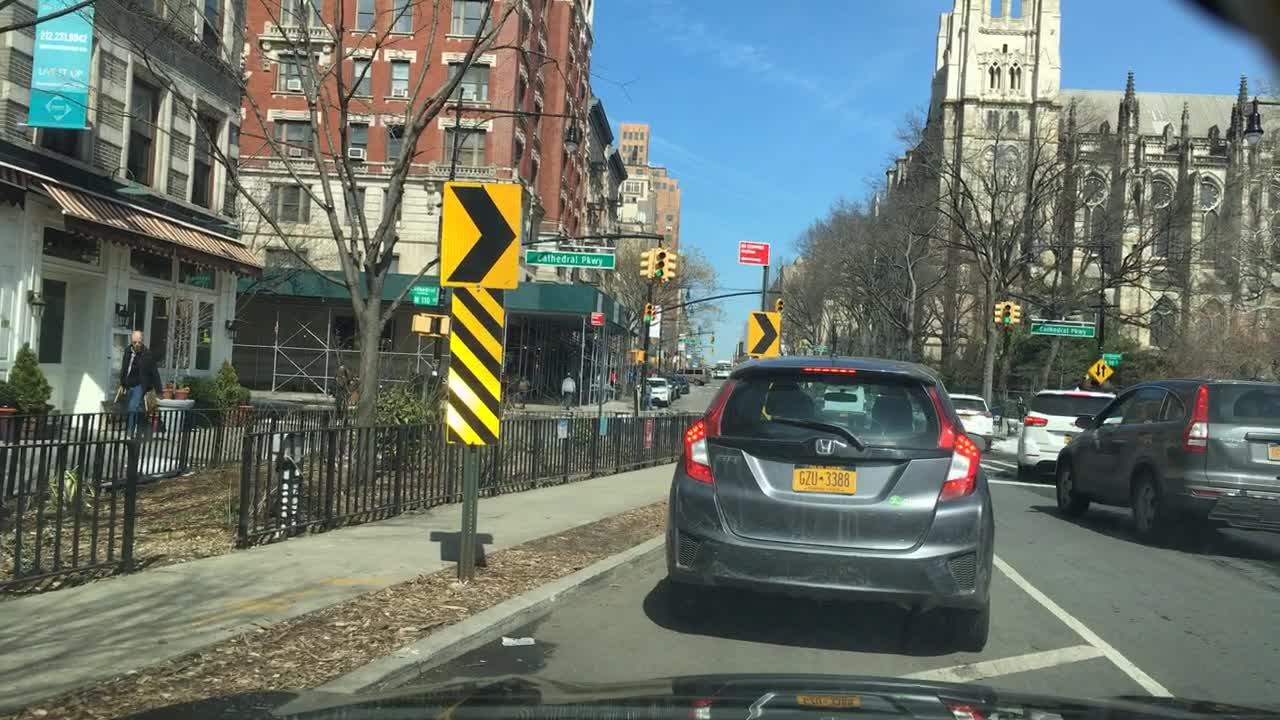bus: (712, 359, 733, 377)
car: (665, 354, 990, 649), (1053, 377, 1278, 545), (1014, 384, 1122, 486), (949, 392, 987, 455), (799, 380, 863, 413), (636, 375, 673, 407), (670, 360, 709, 389), (658, 371, 691, 395), (659, 374, 683, 398), (661, 375, 674, 399)
person: (107, 326, 162, 432), (330, 356, 357, 420), (555, 371, 574, 404), (514, 372, 531, 408), (642, 380, 652, 411), (607, 365, 618, 390)
traffic light: (648, 248, 667, 280), (631, 248, 646, 278), (999, 302, 1013, 330), (989, 299, 1002, 326), (1008, 302, 1022, 327), (406, 317, 430, 330), (627, 347, 643, 362), (667, 254, 674, 283), (643, 301, 652, 322), (772, 296, 784, 308), (709, 329, 715, 348)
traffic sign: (436, 179, 520, 287), (523, 248, 613, 269), (743, 310, 779, 359), (1031, 320, 1094, 336), (736, 238, 770, 266), (403, 284, 441, 307), (1085, 357, 1113, 384), (1098, 350, 1122, 365), (674, 335, 700, 345), (588, 311, 604, 323)
